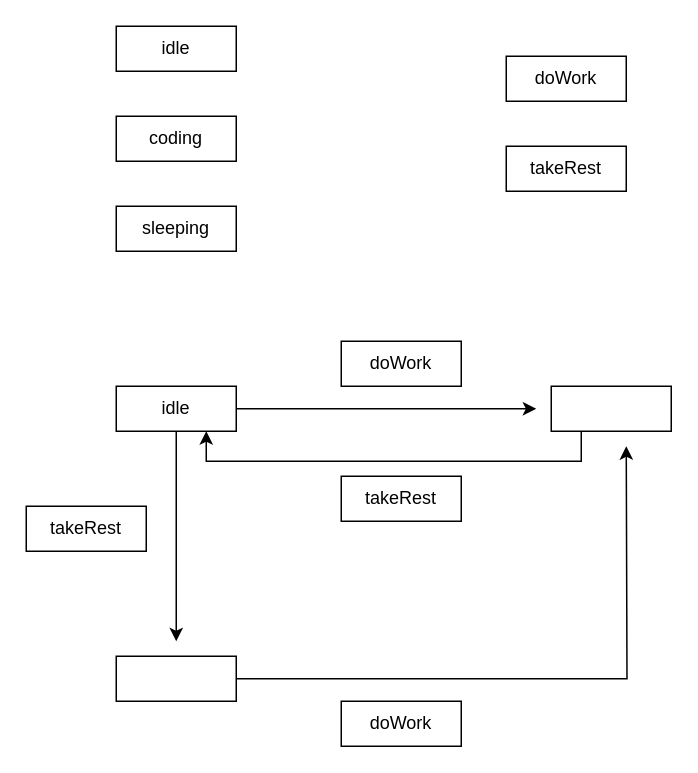
This 698x773 diagram has some shape labels left out. The centre of each missing label's shape, as x and y in pixels:
"code" goes at (610,408).
"sleep" goes at (175,678).
